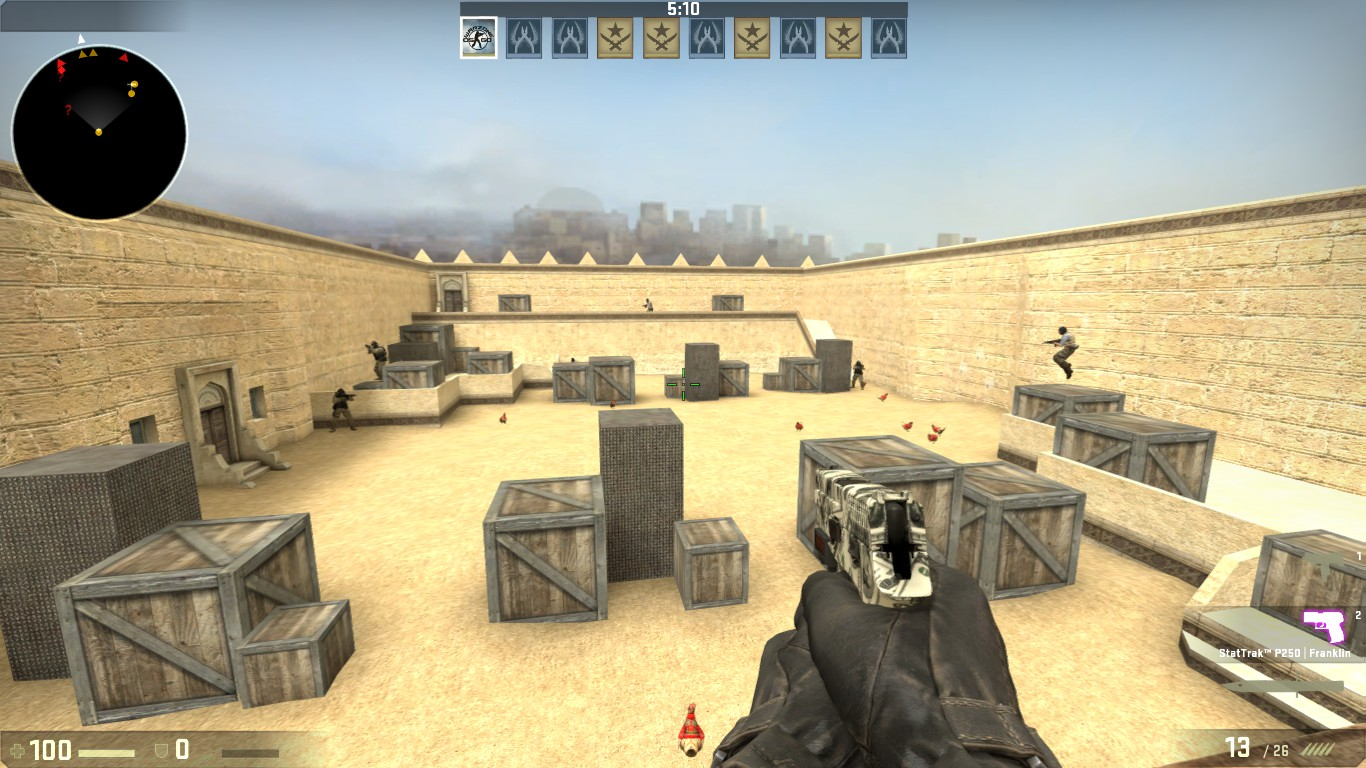c: (326, 386, 357, 435), (365, 341, 388, 381), (852, 360, 864, 389)
t: (1050, 326, 1079, 380), (641, 298, 657, 315)
